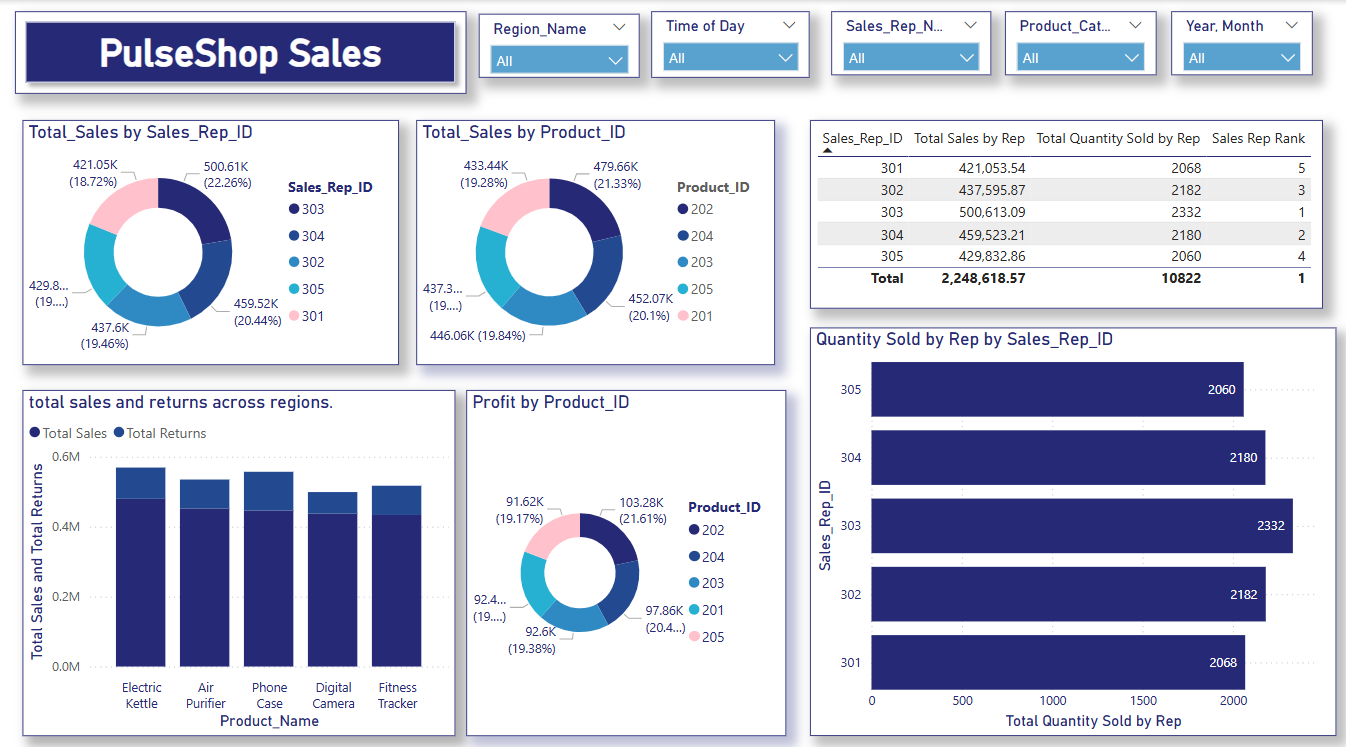

Layout of this report page (visuals, bound fields, positions):
{"tool":"powerbi","page":{"name":"Sales Rep Performance","canvas":[1280,720],"ordinal":3},"visuals":[{"type":"tableEx","fields":{"Values":["Orders.Sales_Rep_ID","Measures_Table.Total Sales by Rep","Measures_Table.Total Quantity Sold by Rep","Measures_Table.Sales Rep Rank"]},"box":[769.4,114,486.8,179.3],"z":0},{"type":"clusteredBarChart","title":"Quantity Sold by Rep by Sales_Rep_ID","fields":{"Category":["Orders.Sales_Rep_ID"],"Y":["Measures_Table.Total Quantity Sold by Rep"]},"box":[769.4,311.1,499.9,388.3],"z":2000},{"type":"columnChart","title":"total sales and returns across regions.","fields":{"Category":["Products.Product_Name"],"Y":["Measures_Table.Total Sales","Measures_Table.Total Returns"]},"box":[21.4,370.5,410.8,328.9],"z":2001},{"type":"shape","box":[14.2,10.7,428.6,78.4],"z":2002},{"type":"slicer","fields":{"Values":["Regions.Region_Name"]},"box":[454.8,13.1,153.2,60.6],"z":2003},{"type":"slicer","fields":{"Values":["Orders.Time of Day"]},"box":[618.6,10.7,150.8,62.9],"z":2004},{"type":"slicer","fields":{"Values":["Sales_Reps.Sales_Rep_Name"]},"box":[789.6,10.7,152,60.6],"z":2005},{"type":"slicer","fields":{"Values":["Products.Product_Category"]},"box":[954.6,10.7,143.7,60.6],"z":2006},{"type":"slicer","fields":{"Values":["Date_Table.Year","Date_Table.Month"]},"box":[1112.6,10.7,134.2,60.6],"z":2007},{"type":"donutChart","title":"Total_Sales by Sales_Rep_ID","fields":{"Y":["Sum(Orders.Total_Sales)"],"Category":["Sales_Reps.Sales_Rep_ID"]},"box":[21.4,114,357.4,232.7],"z":2008},{"type":"donutChart","title":"Total_Sales by Product_ID","fields":{"Category":["Orders.Product_ID"],"Y":["Sum(Orders.Total_Sales)"]},"box":[395.4,114,340.8,232.7],"z":2009},{"type":"donutChart","title":"Profit by Product_ID","fields":{"Y":["Measures_Table.Total Profit"],"Category":["Products.Product_ID"]},"box":[442.9,370.5,304,328.9],"z":2010}]}

Visuals, with their boxes in screenshot pixels (x1, y1, x2, y2), scaled from the page's 1280x720 canvas onto the 1346x747 screenshot:
tableEx - Orders.Sales_Rep_ID x Measures_Table.Total Sales by Rep: BBox(809, 118, 1321, 304)
"Quantity Sold by Rep by Sales_Rep_ID" clusteredBarChart: BBox(809, 323, 1335, 726)
"total sales and returns across regions." columnChart: BBox(23, 384, 454, 726)
shape: BBox(15, 11, 466, 92)
slicer - Regions.Region_Name: BBox(478, 14, 639, 76)
slicer - Orders.Time of Day: BBox(650, 11, 809, 76)
slicer - Sales_Reps.Sales_Rep_Name: BBox(830, 11, 990, 74)
slicer - Products.Product_Category: BBox(1004, 11, 1155, 74)
slicer - Date_Table.Year x Date_Table.Month: BBox(1170, 11, 1311, 74)
"Total_Sales by Sales_Rep_ID" donutChart: BBox(23, 118, 398, 360)
"Total_Sales by Product_ID" donutChart: BBox(416, 118, 774, 360)
"Profit by Product_ID" donutChart: BBox(466, 384, 785, 726)
